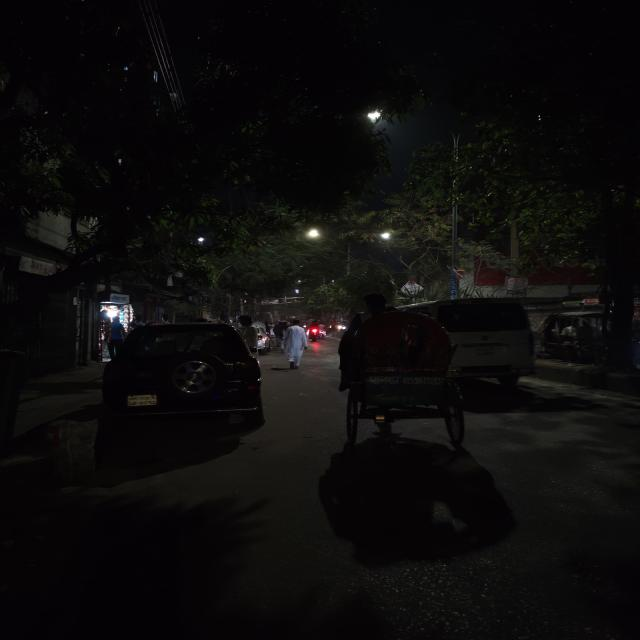car: (94, 320, 274, 445), (449, 286, 543, 386)
motorcycle: (305, 318, 330, 344)
pedestrian: (278, 318, 313, 369), (103, 316, 127, 350)
rickshaw: (328, 308, 464, 447), (536, 306, 617, 372)
